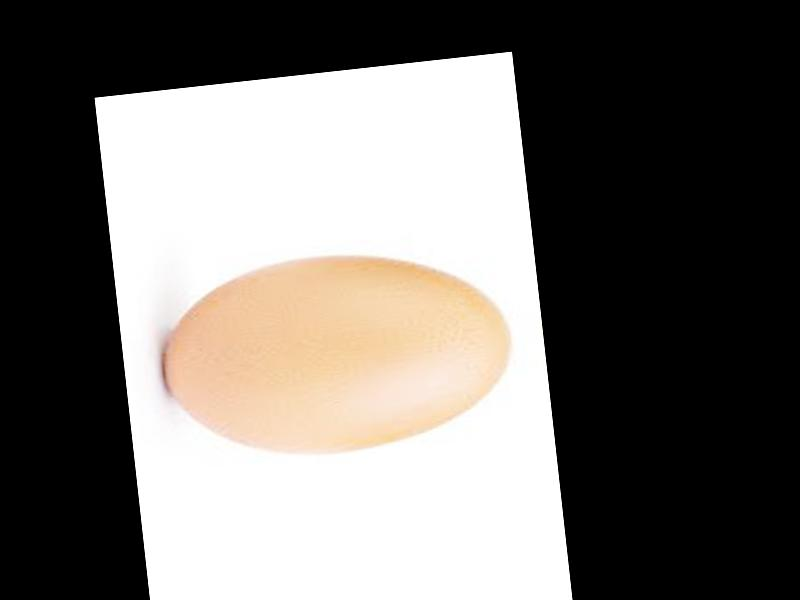Eggs: (154, 238, 520, 467)
